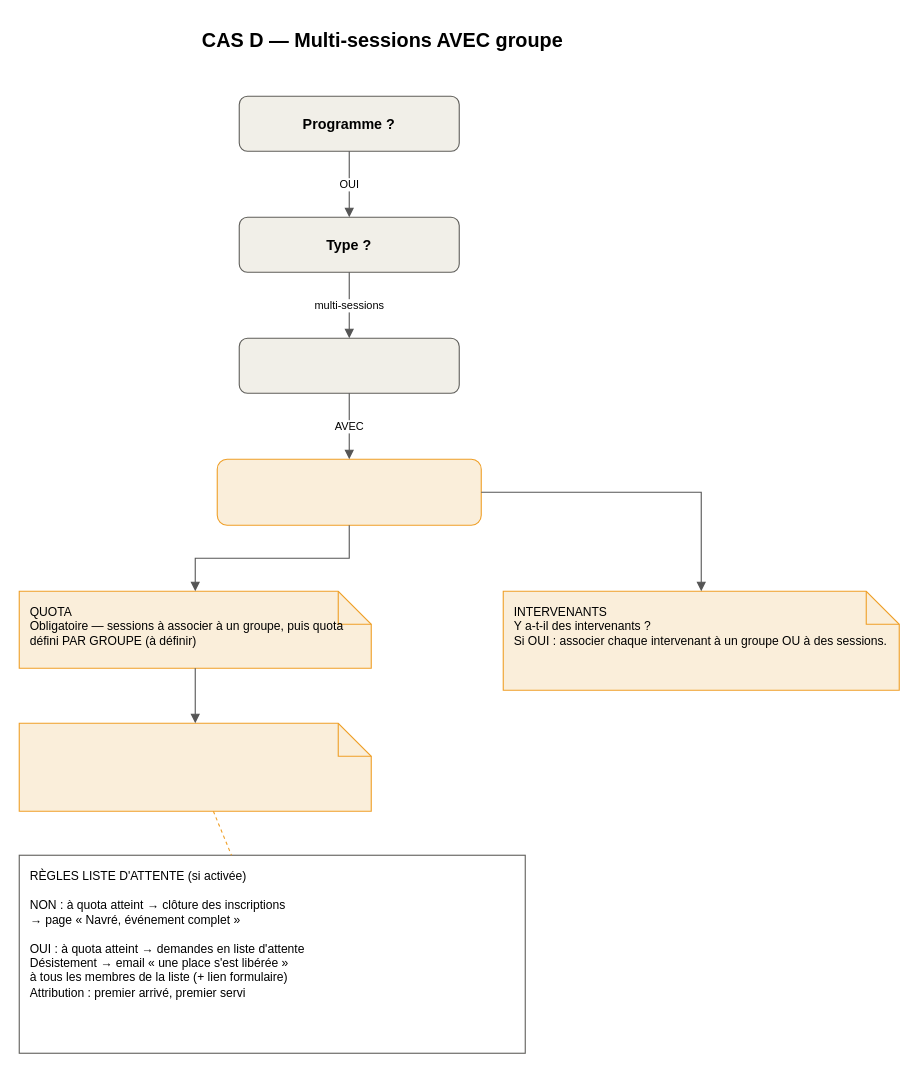
The diagram is 919 pixels wide and 1073 high, and some of its shapes have lost their labels. The shapes that lost their labels are listed below. From the top down, each one's centre as x and y in pixels, then its label:
point 348,365: Groupe de sessions ?
point 348,491: CAS D Multi-sessions — avec groupe de sessions
point 194,766: LISTE D'ATTENTE Quota actif → liste d'attente OUI / NON (voir règles ci-dessous)
